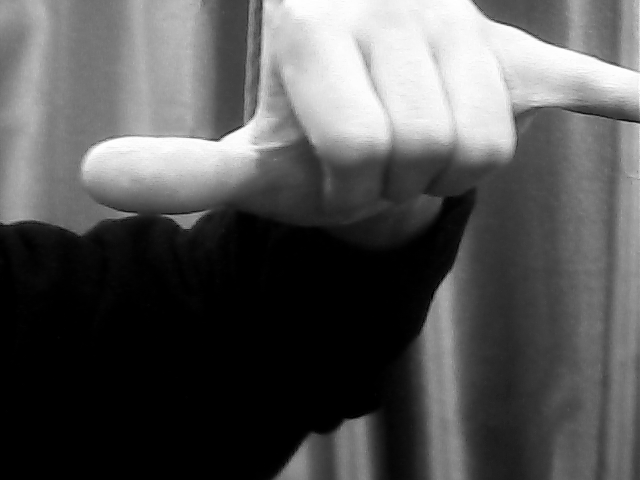aloha: (75, 1, 640, 223)
